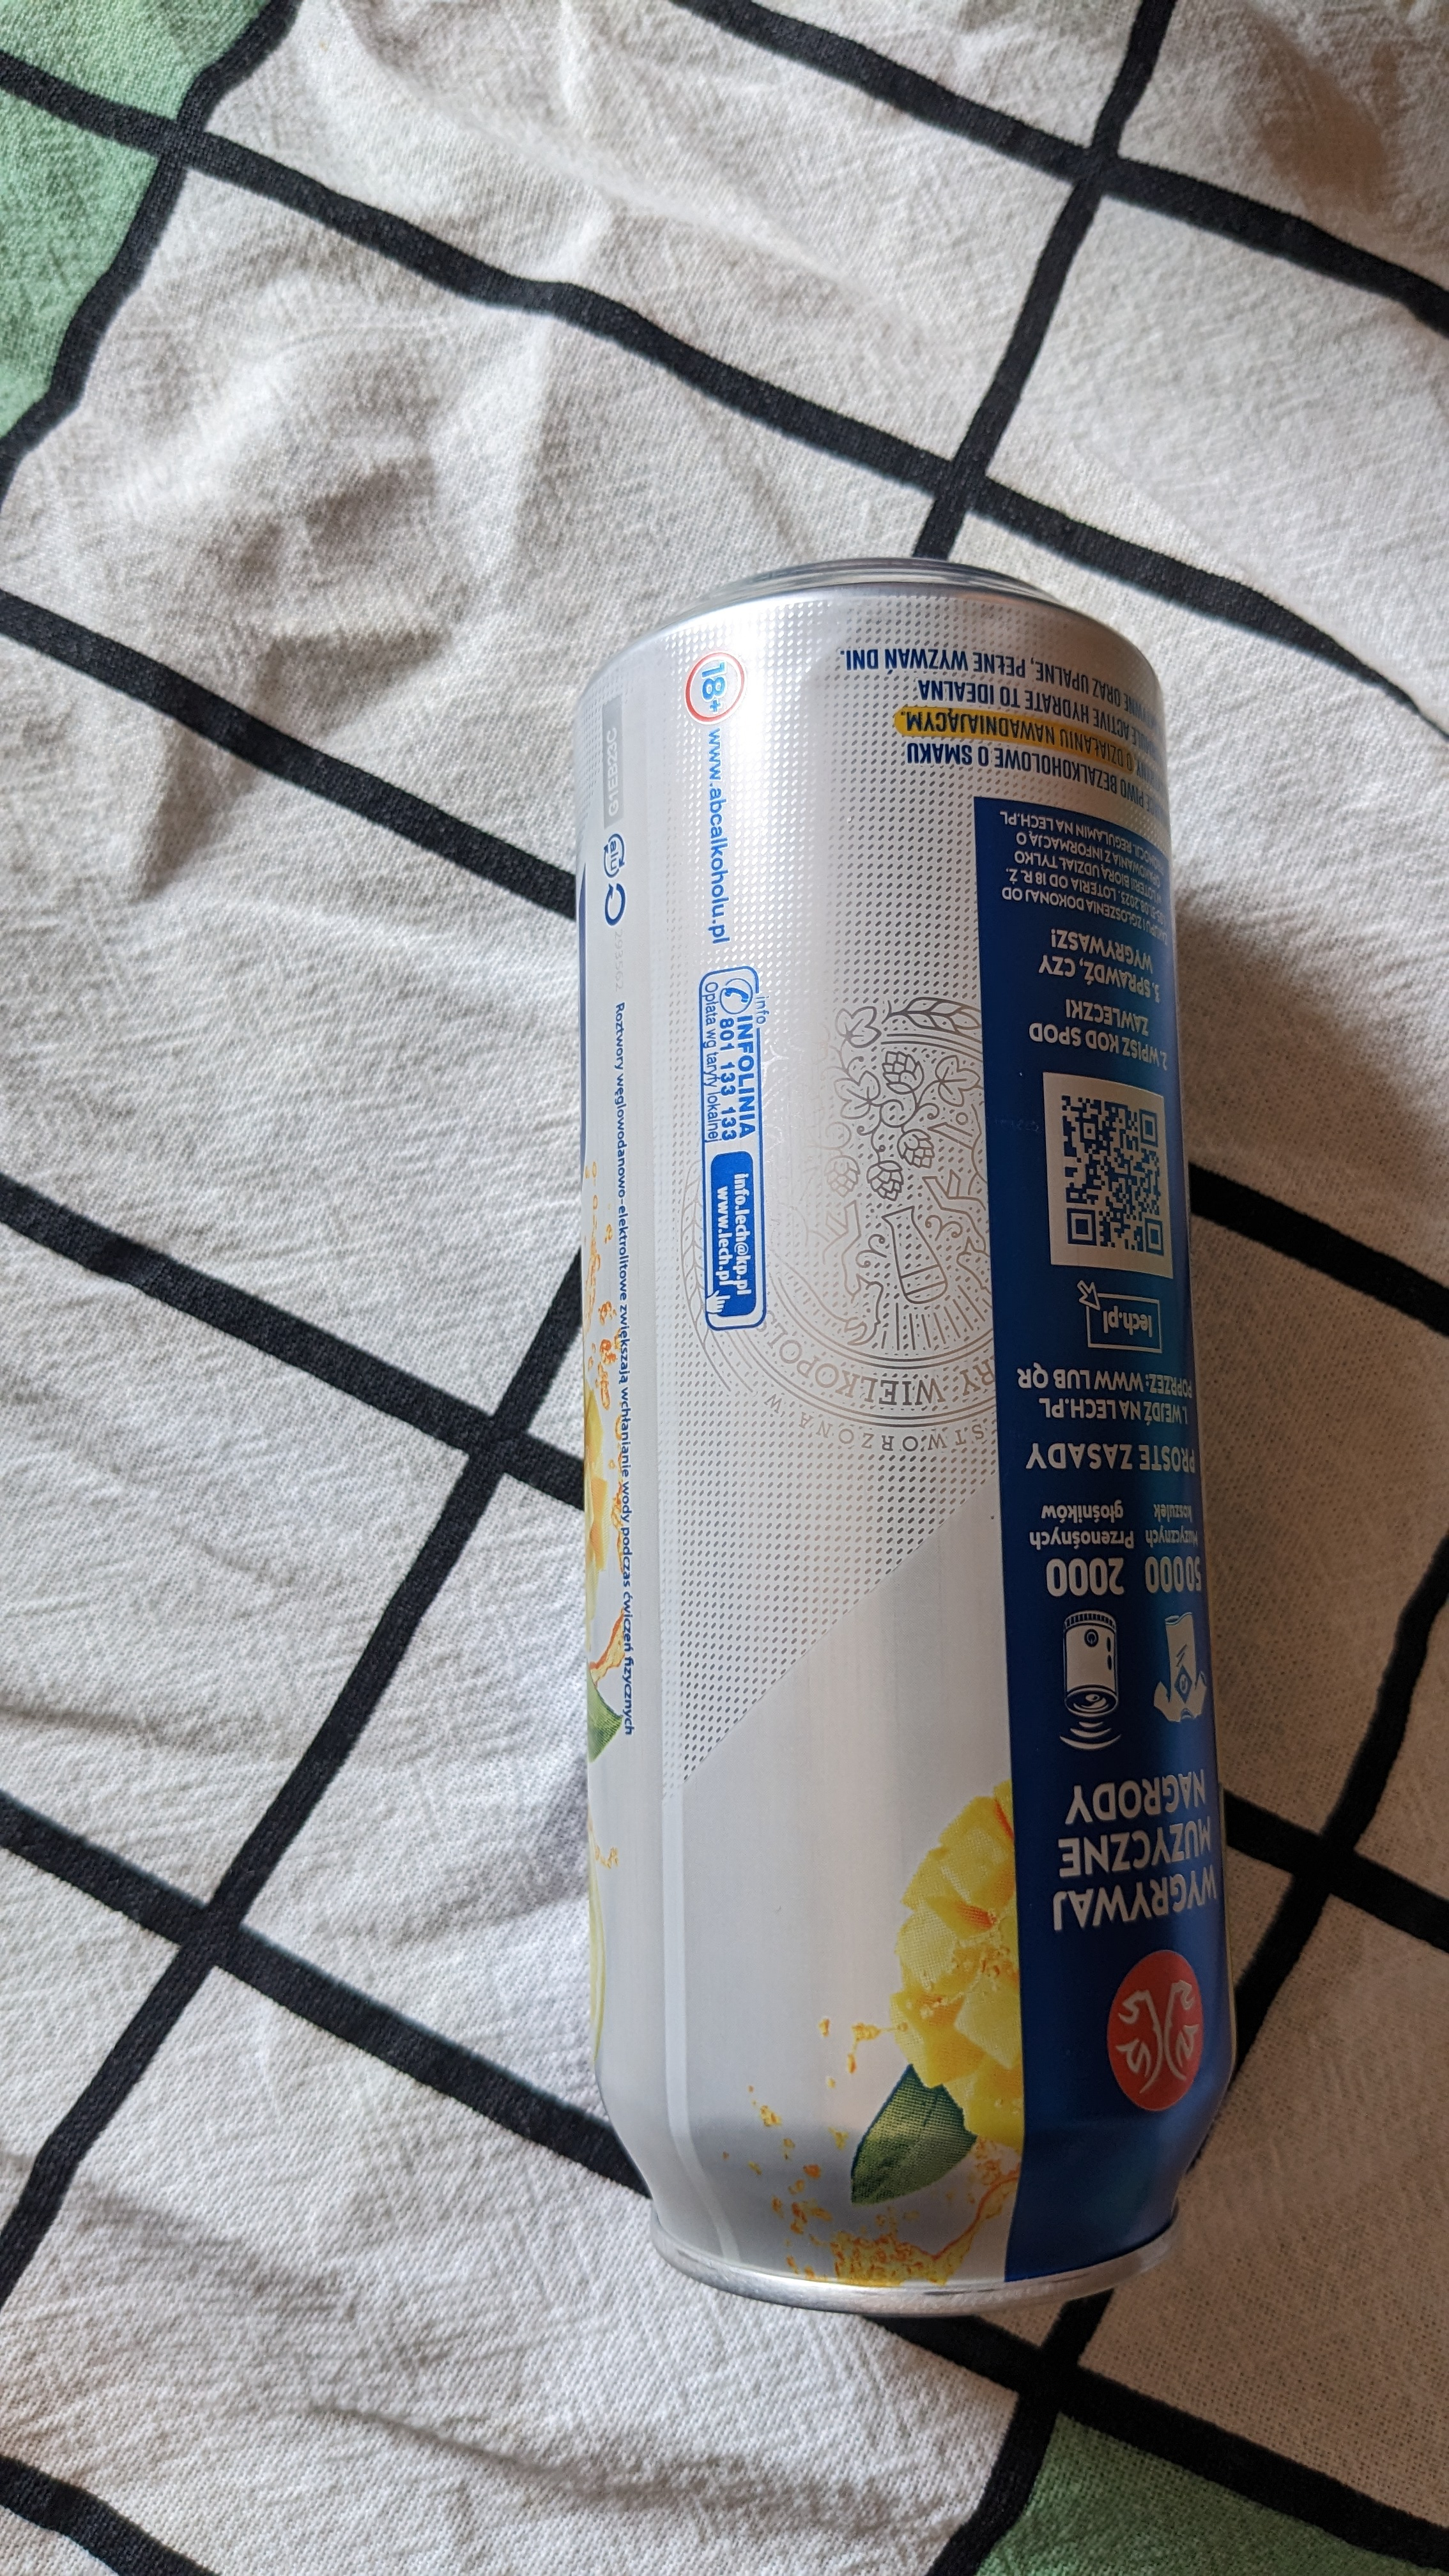lech-active: (538, 534, 1272, 2346)
